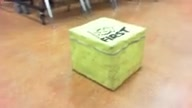cube: (68, 17, 147, 91)
